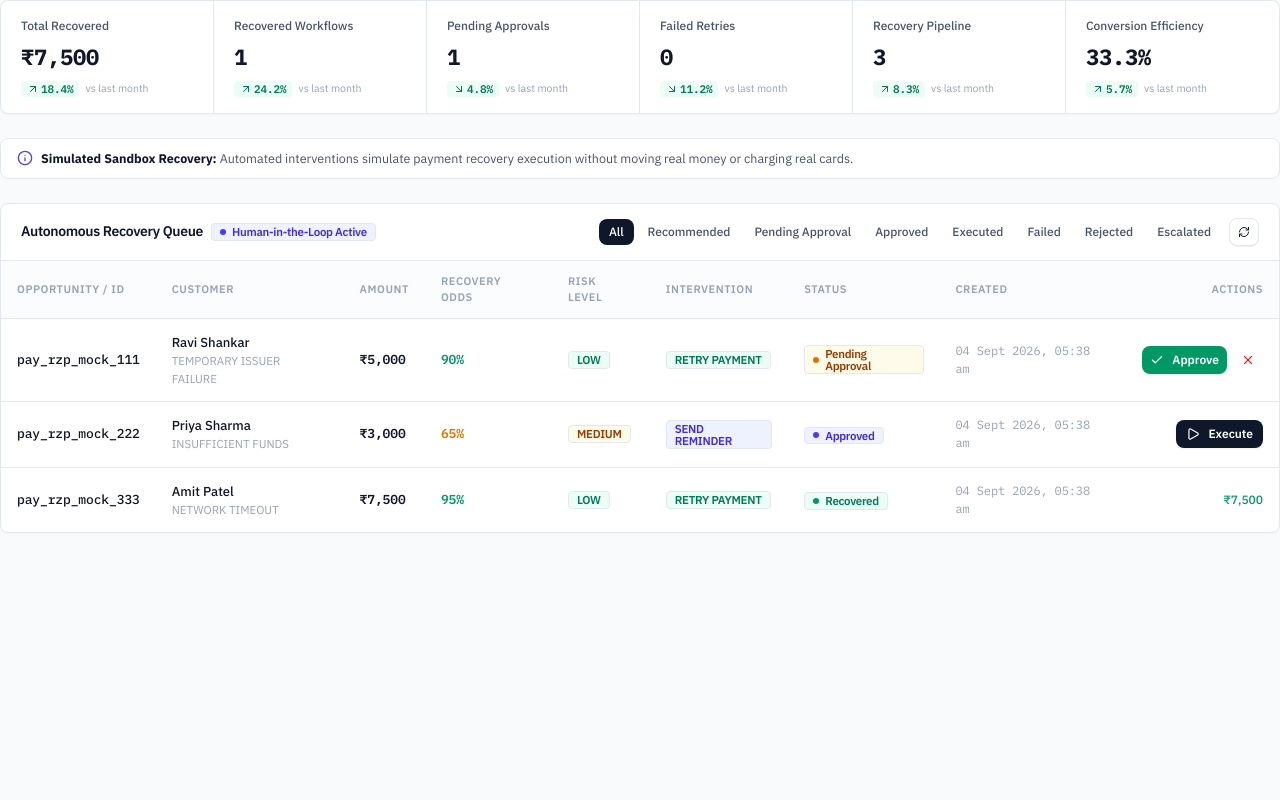
it: Recovery Dashboard UI Component (Milestone 6 Step 10B Hardened) › displays error feedback when execution fails or is declined by provider
Click the button "Execute": (1220, 434) top-left (1176, 420), bottom-right (1263, 448)
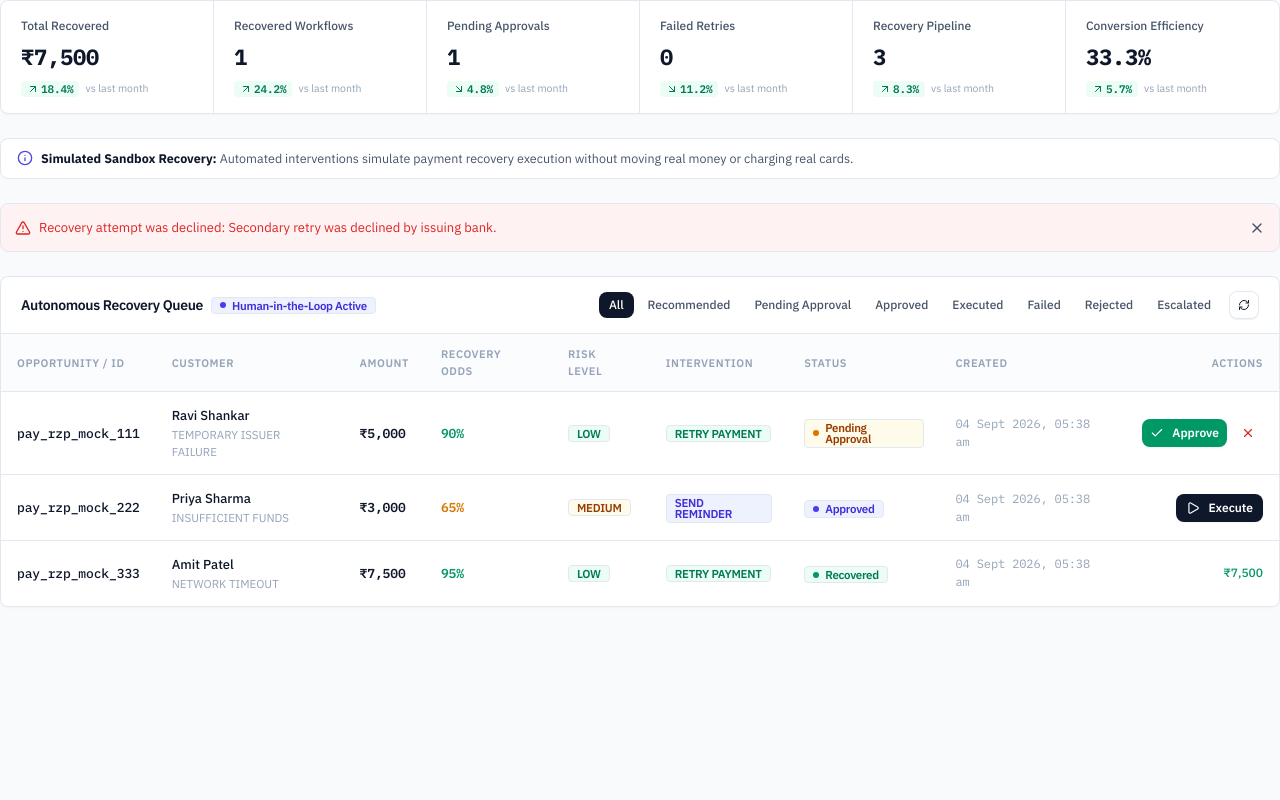
Expected: the text "Recovery attempt was declined" is shown, top-left (39, 219), bottom-right (496, 236)
